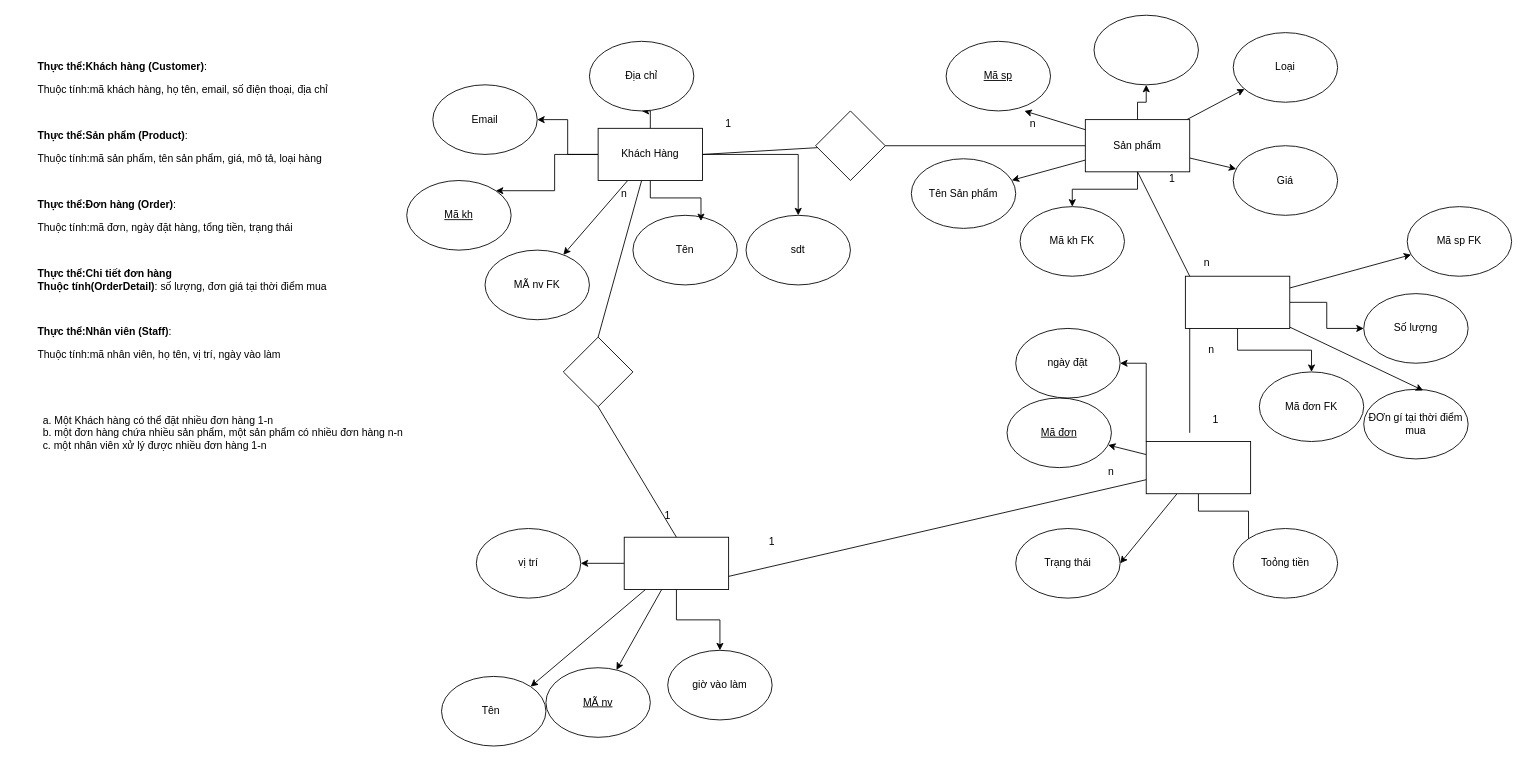
Some shapes in this 1527 by 761 pixel diagram are drawn without their labels. The centre of each missing label's shape, as x and y in pixels:
Chi tiết đơn: point 1237,301
Hõ trợ: point 597,371
Mô tả: point 1145,49
Nhân viên: point 676,562
Đơn hàng: point 1198,467
đặt: point 850,145
